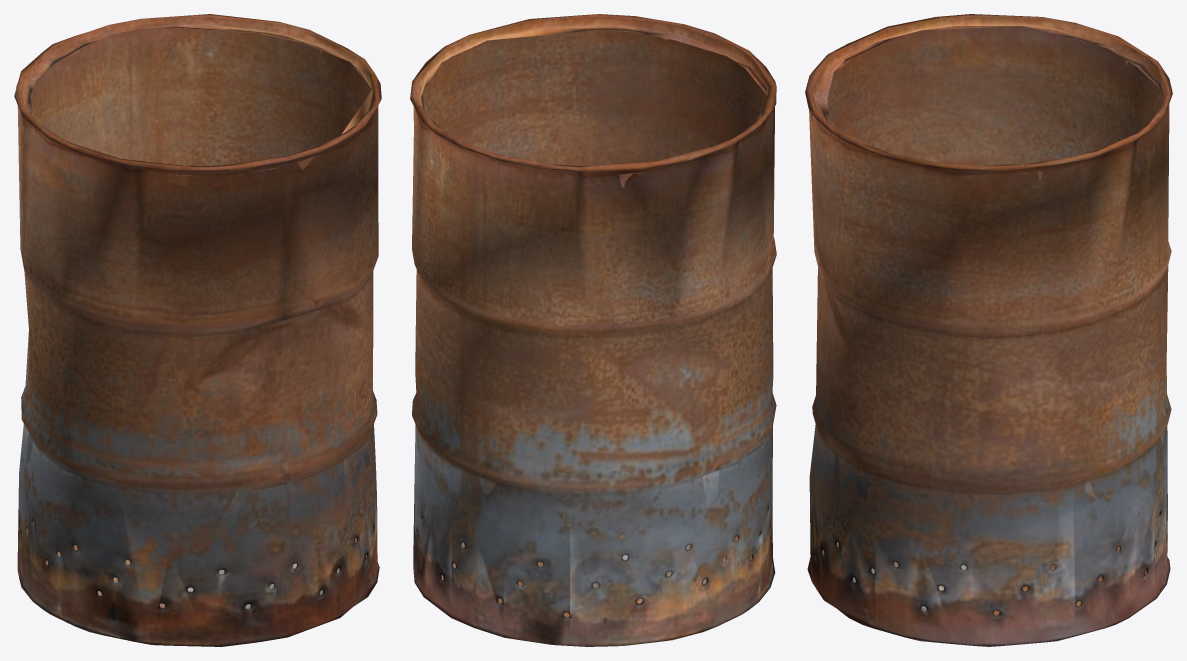
Rendered from barrel_stove.glb.
3 views of the same model, side by side, from view 1: azimuth 30°, elevation 25°; view 2: azimuth 150°, elevation 25°; view 3: azimuth 270°, elevation 25° (orthographic).
Visible parts, largest first — view 1: barrel_stove; view 2: barrel_stove; view 3: barrel_stove.
Part boxes in pixels (x1=…): barrel_stove: x1=14, y1=14, x2=381, y2=646; barrel_stove: x1=410, y1=14, x2=776, y2=646; barrel_stove: x1=805, y1=14, x2=1172, y2=646.
Size of the model in its own units: 0.5886 by 0.8556 by 0.5925.
Materials: 1 (1 with a texture image).
